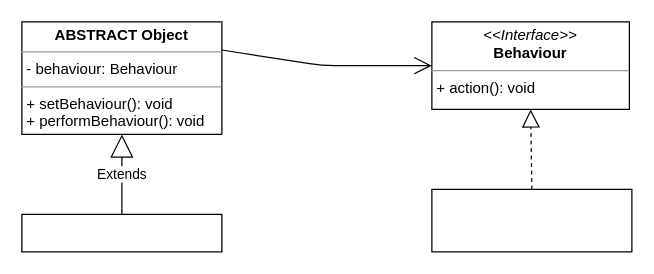
The diagram is 654 pixels wide and 274 high, and some of its shapes have lost their labels. The shapes that lost their labels are listed below. From the top down, each one's centre as x and y in pixels, then its label:
At point 121,232: "ConcreteObject".
At point 531,220: "ConcreteBehaviour + action: void".
